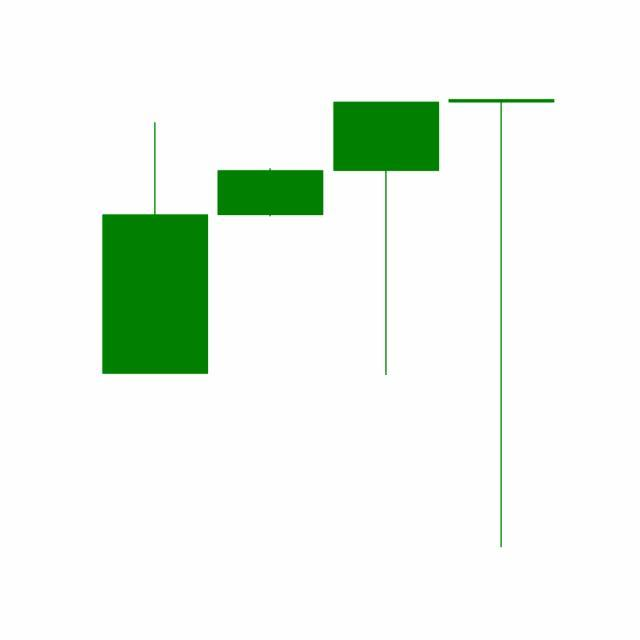Dragonfly Doji: (444, 95, 560, 553)
